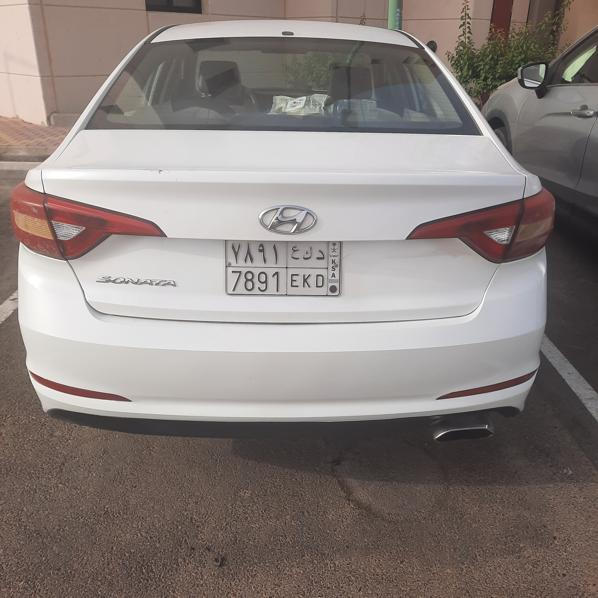numberplate: (226, 240, 342, 296)
